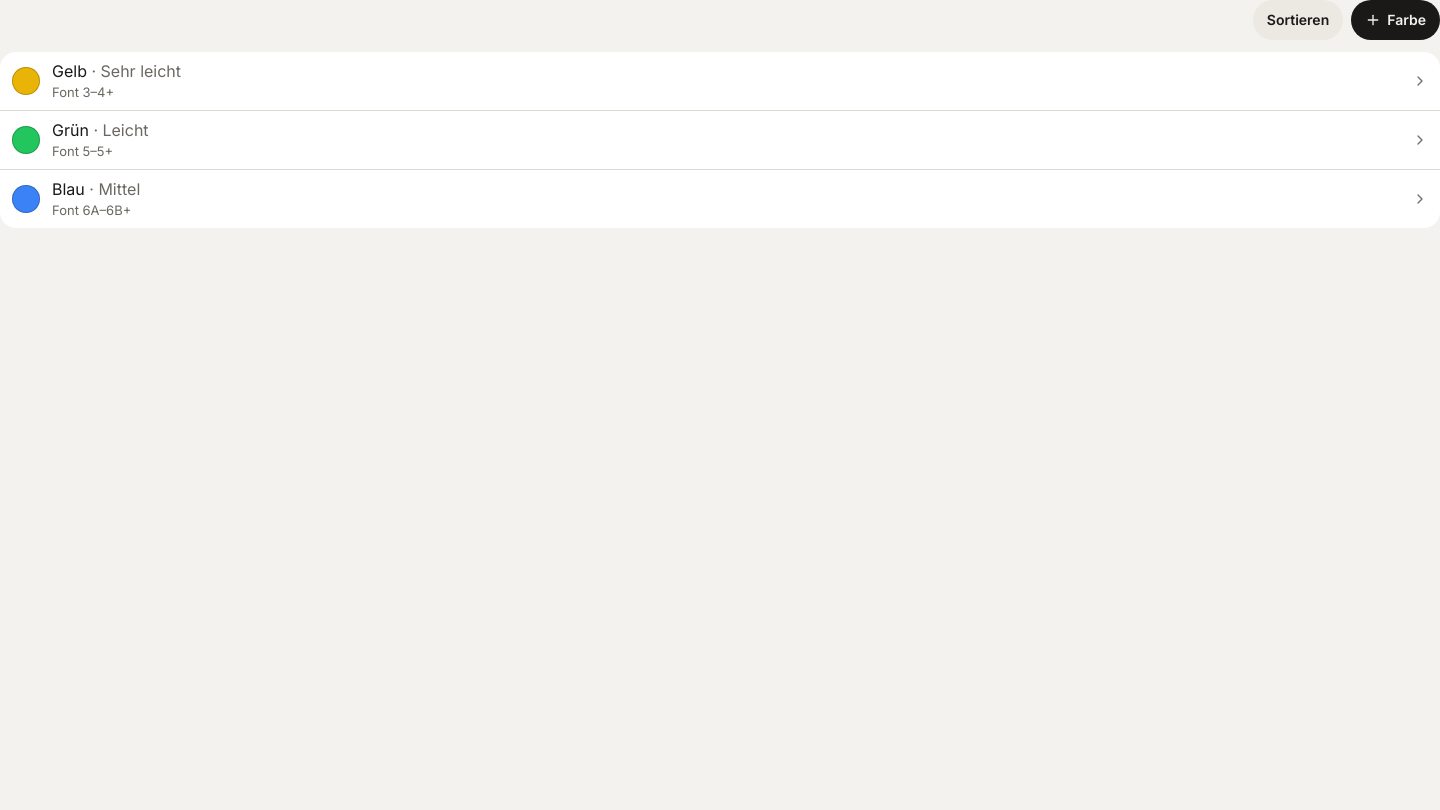
Scenario: SPEC-023 F5: Farben als Liste + Sheet › + Farbe legt eine neue Farbe mit gültiger UUID an
Click the button with test id "add-grade-btn" at {"x": 1396, "y": 20}, box [1351,0,1439,40]
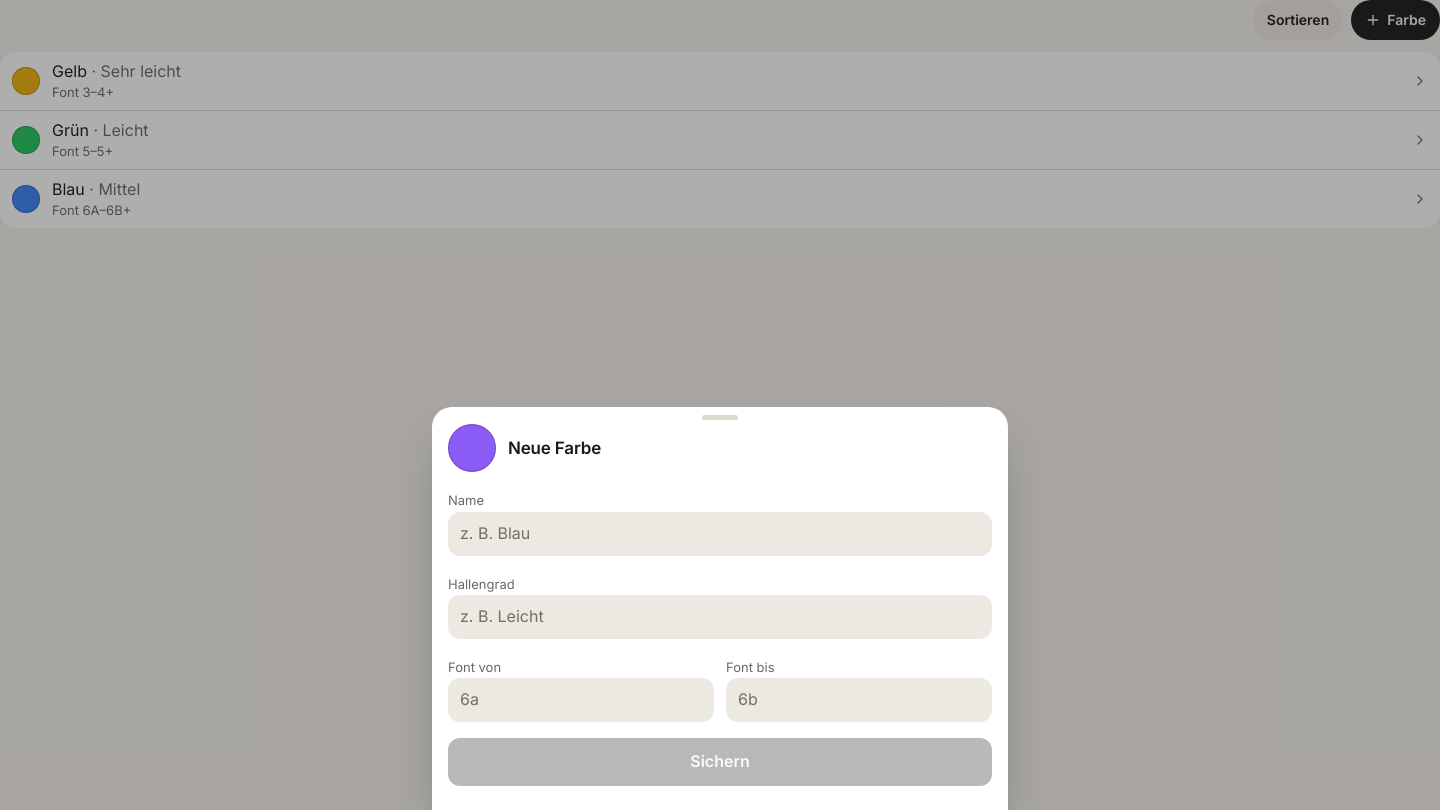
Type "Pink" into the field with test id "grade-name-input" at {"x": 720, "y": 534}, box [448,512,992,556]
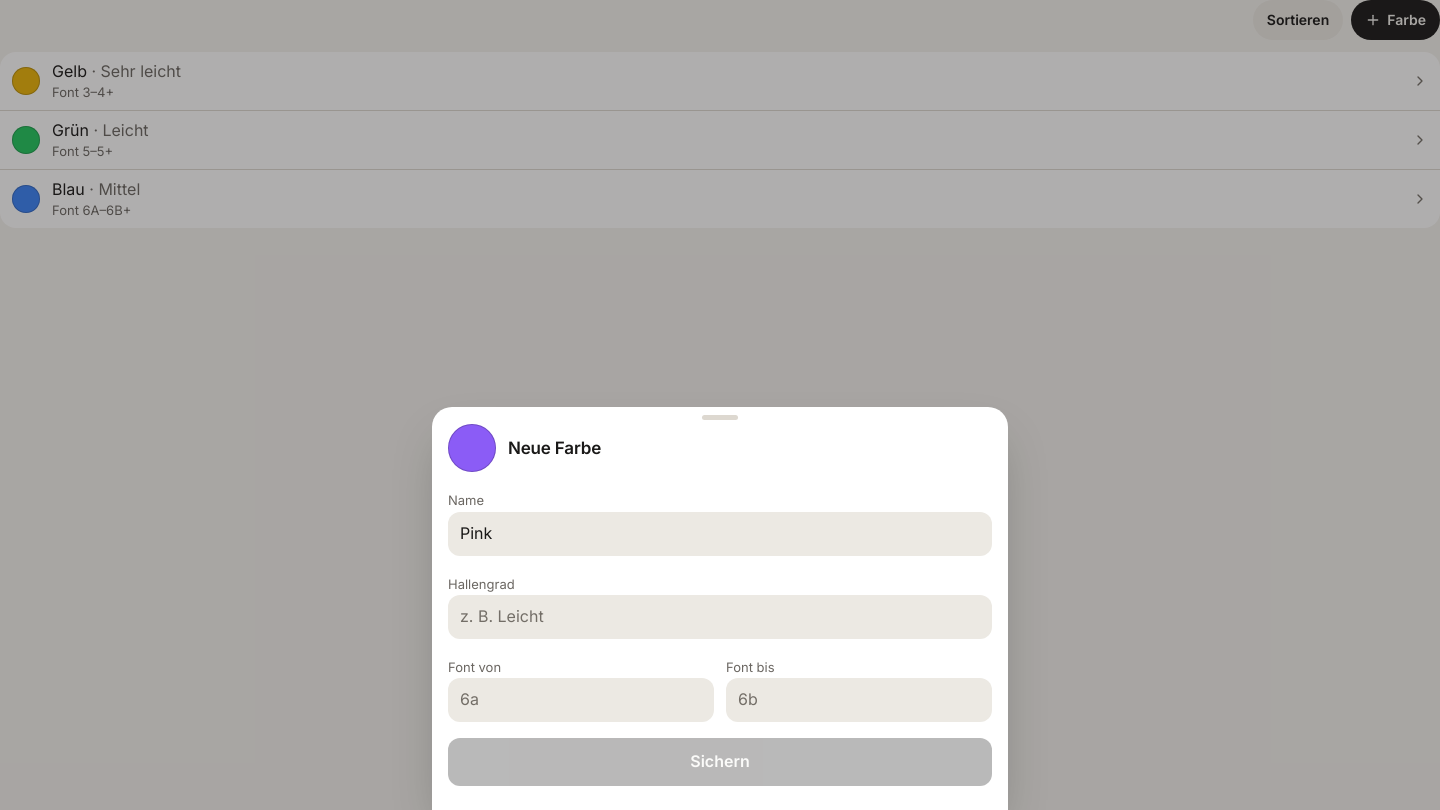
Type "Schwer" into the field with test id "grade-label-input" at {"x": 720, "y": 617}, box [448,595,992,639]
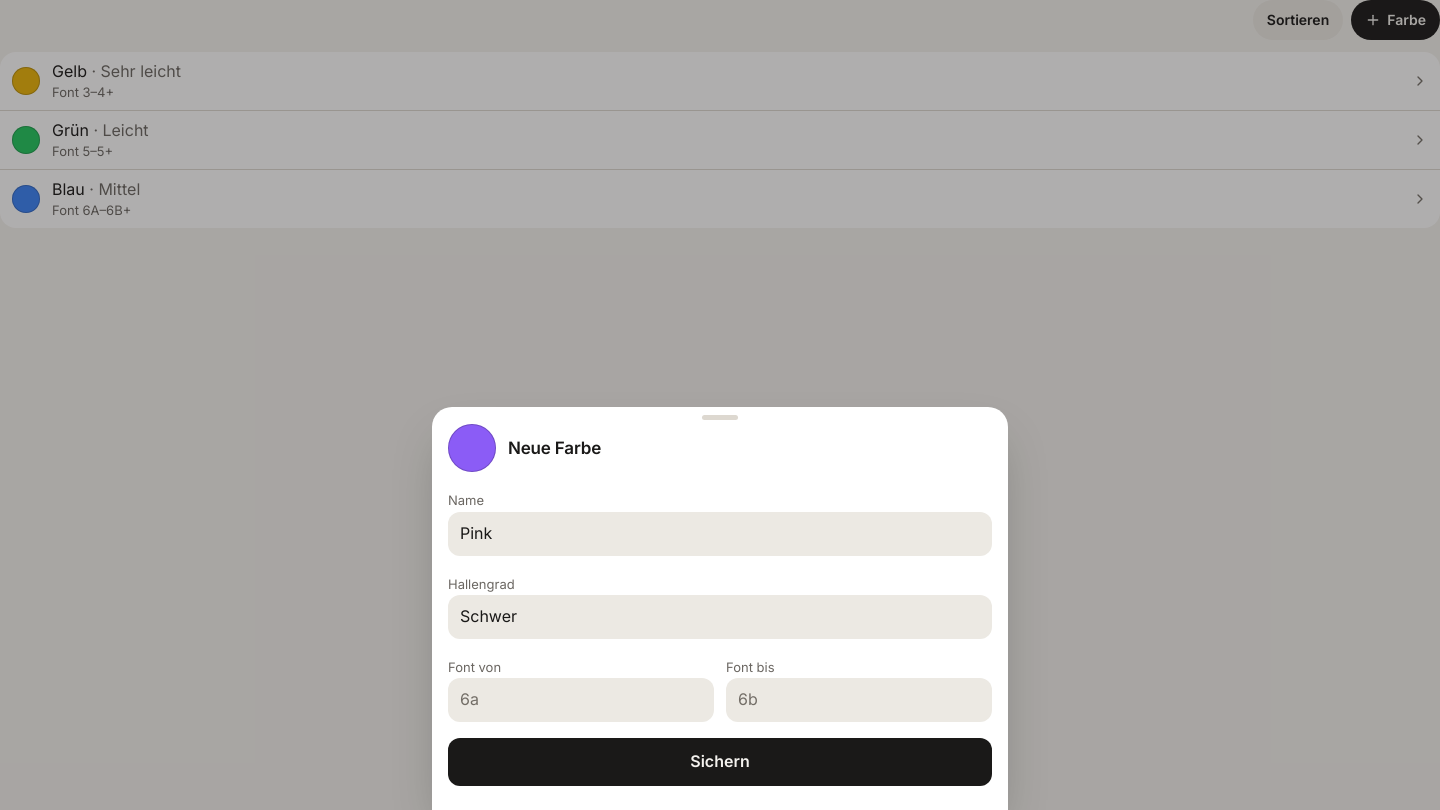
Click the button with test id "grade-save-btn" at {"x": 720, "y": 762}, box [448,738,992,786]
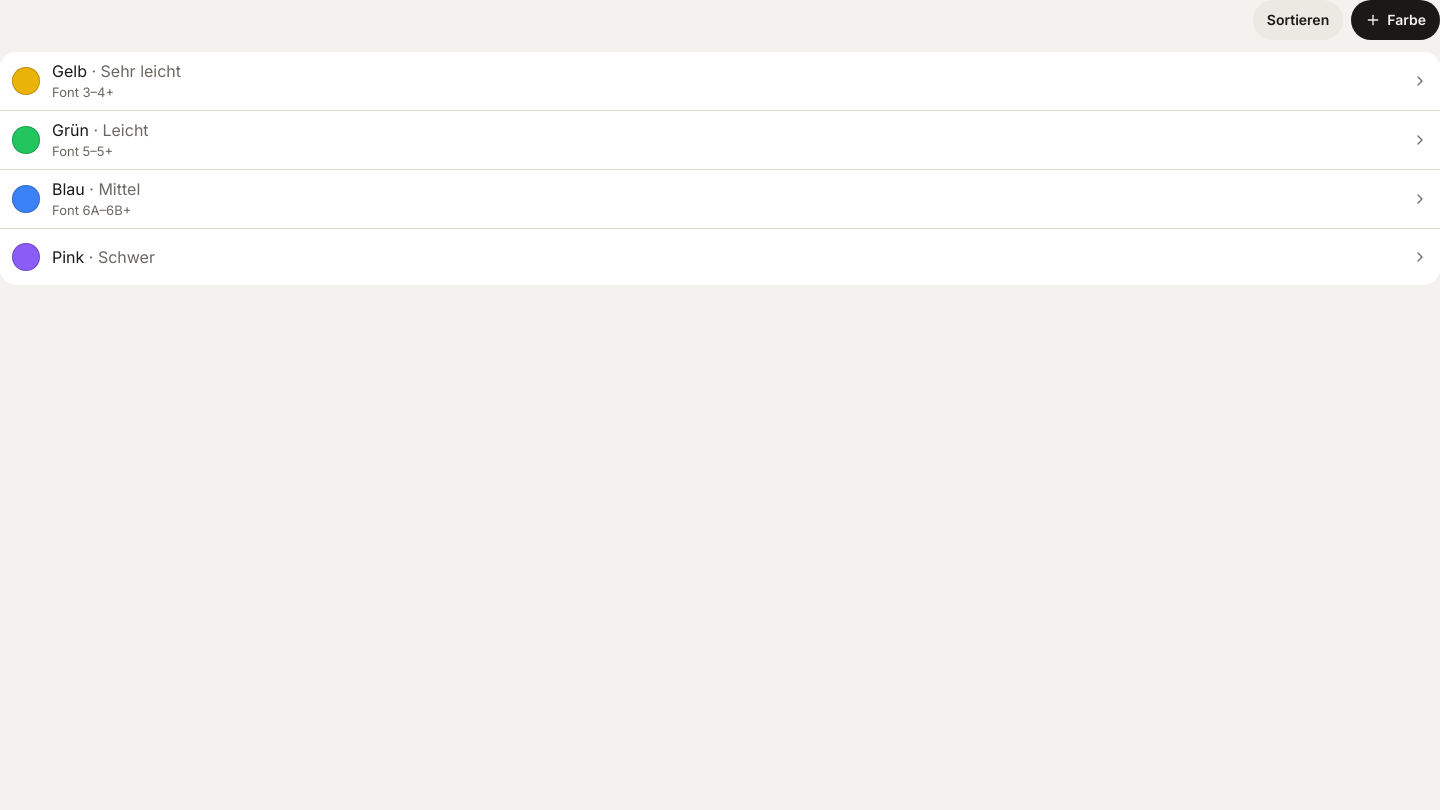
Expected: the button with test id "grade-row-3" shows "Pink", [0,229,1439,285]
